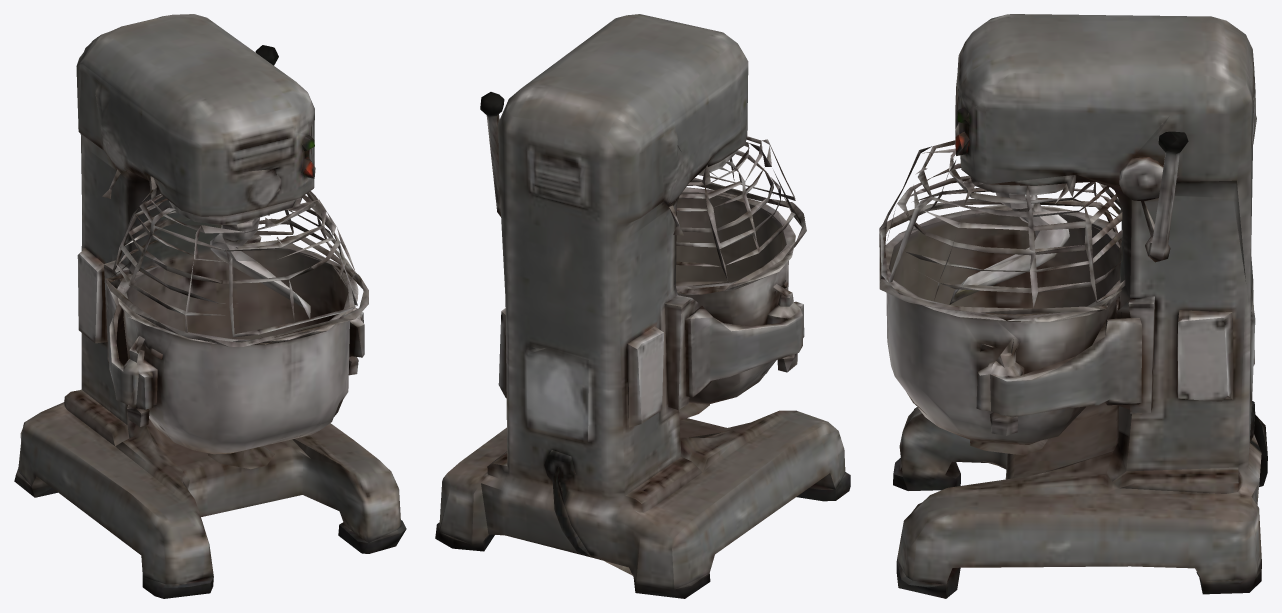
File: p7-stand-mixer.glb
3 renders of one model, left to right at view 1: azimuth 30°, elevation 25°; view 2: azimuth 150°, elevation 25°; view 3: azimuth 270°, elevation 25°, orthographic. The views are drawn at different scales.
Parts seen in each view (by area): view 1: p7-stand-mixer; view 2: p7-stand-mixer; view 3: p7-stand-mixer.
Part boxes in pixels (x1,y1,x2,y2): p7-stand-mixer: [14, 14, 406, 598]; p7-stand-mixer: [435, 14, 850, 598]; p7-stand-mixer: [879, 14, 1267, 598].
Bounding box in the file's own units: 0.5 × 0.85 × 0.6.
1 material, 1 textured.
